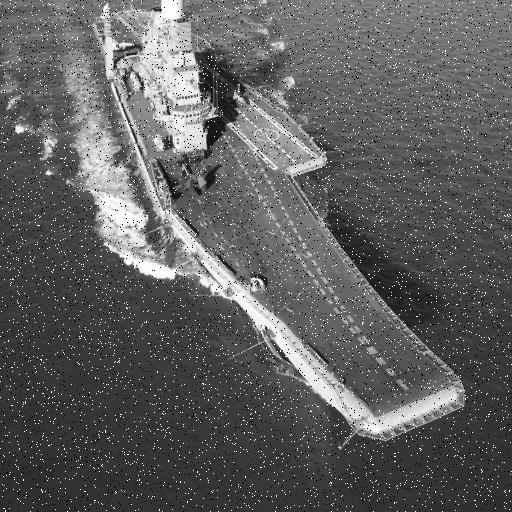Portanaves: (89, 1, 494, 453)
